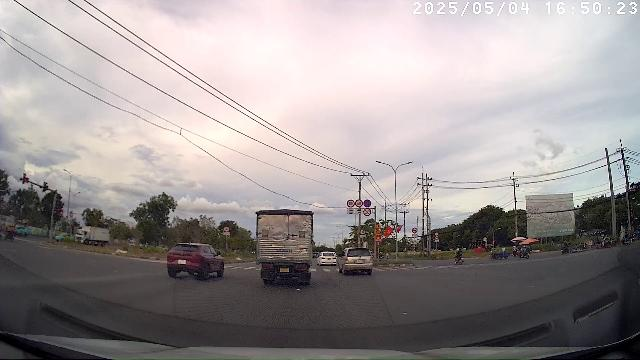127-toc-do-toi-da-60: (355, 199, 363, 208)
127-toc-do-toi-da-80: (346, 199, 355, 208)
130-cam-dung-va-do-xe: (364, 199, 371, 207)
